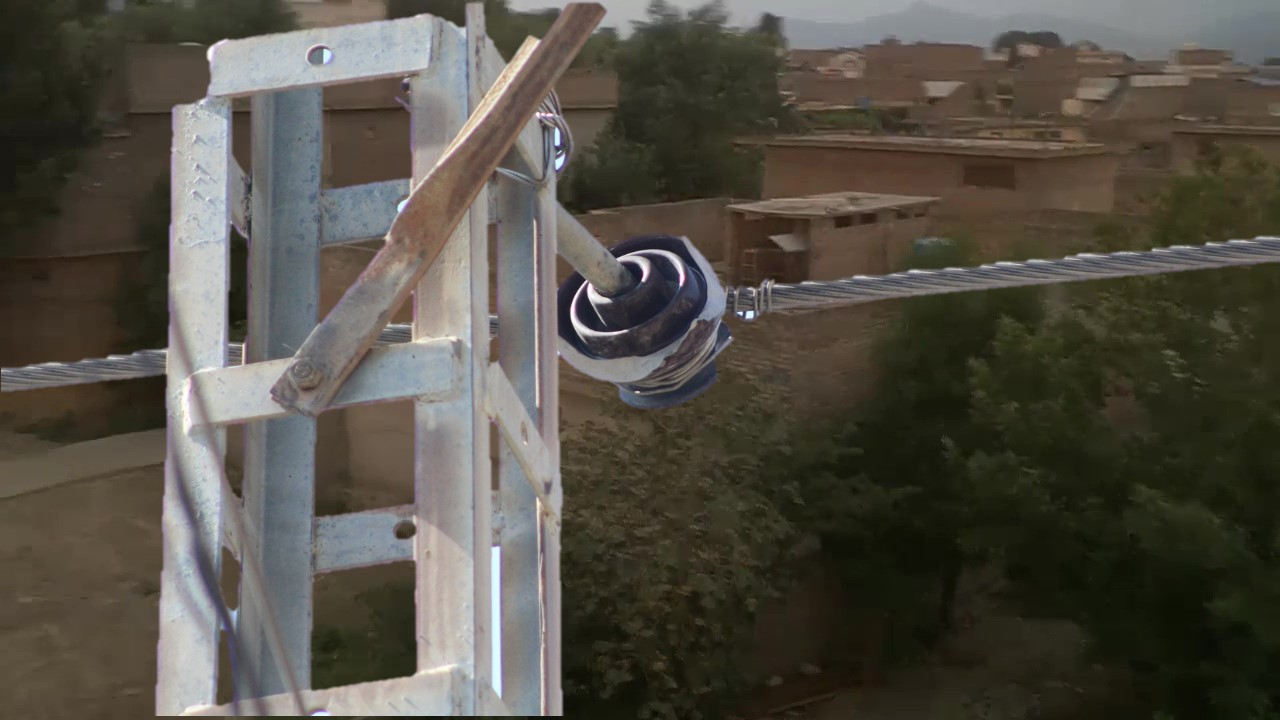defect_pin: (551, 221, 748, 418)
